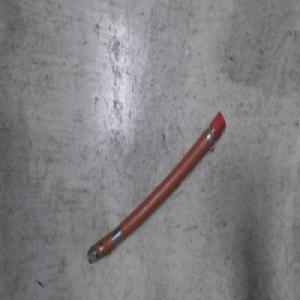Hose: (85, 108, 225, 266)
